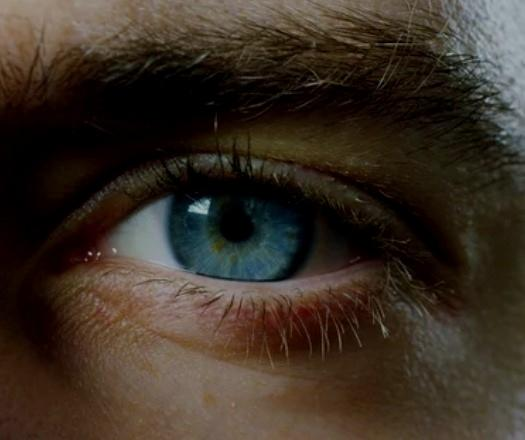eye: (170, 180, 317, 284)
